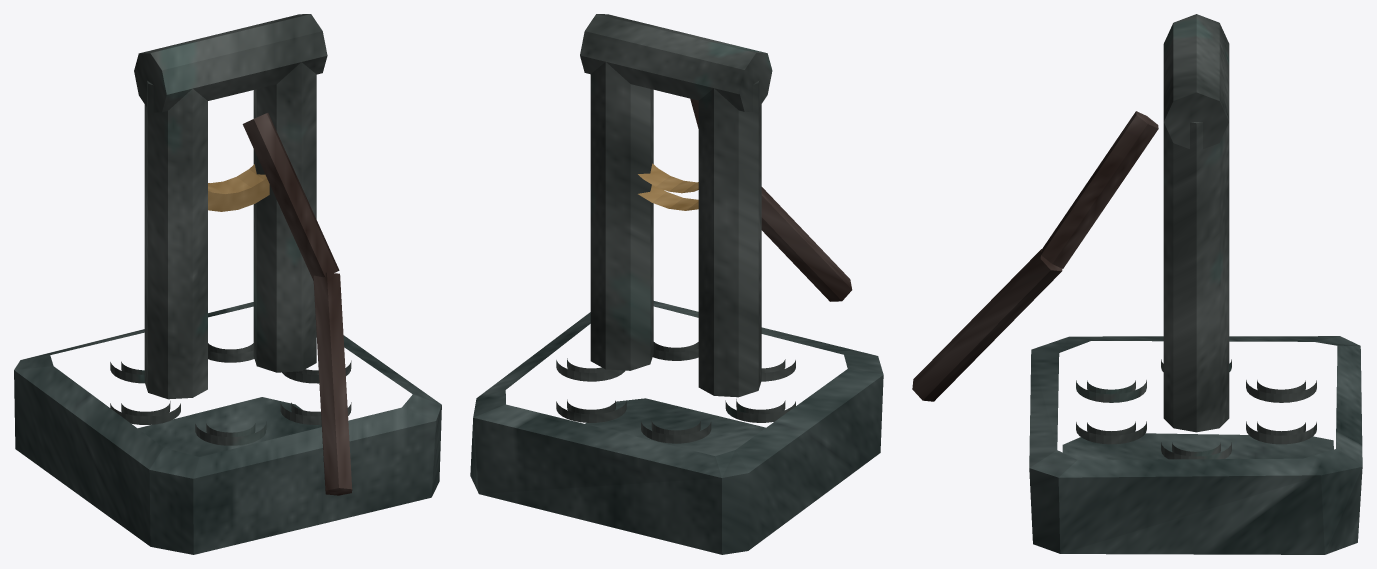
Rendered from 0676_rope_anchor_01.glb.
3 renders of one model, left to right at view 1: azimuth 30°, elevation 25°; view 2: azimuth 150°, elevation 25°; view 3: azimuth 270°, elevation 25°, orthographic.
Visible parts, largest first — view 1: iron, stone_dark, wood_dark, brass; view 2: iron, stone_dark, wood_dark, brass; view 3: stone_dark, iron, wood_dark.
Boxes of the visible parts, x1,y1,x2,y2 form: iron: (110, 14, 351, 445); stone_dark: (14, 302, 441, 554); wood_dark: (242, 113, 352, 495); brass: (208, 164, 269, 211); iron: (556, 14, 795, 443); stone_dark: (470, 301, 883, 554); wood_dark: (690, 98, 852, 301); brass: (638, 163, 698, 210); stone_dark: (1029, 336, 1362, 554); iron: (1076, 14, 1316, 459); wood_dark: (912, 111, 1158, 401).
Size of the model in its own units: 1.22 by 1.78 by 1.65.
Materials: 4 (4 with a texture image).
